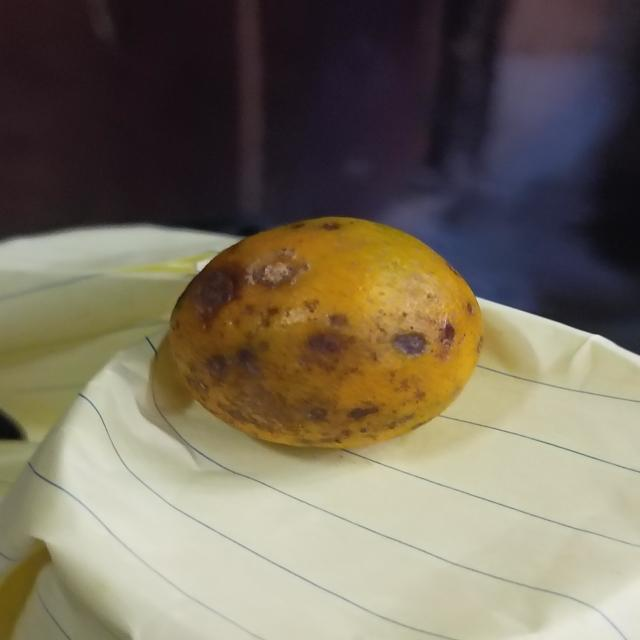black spot: (164, 211, 488, 459)
